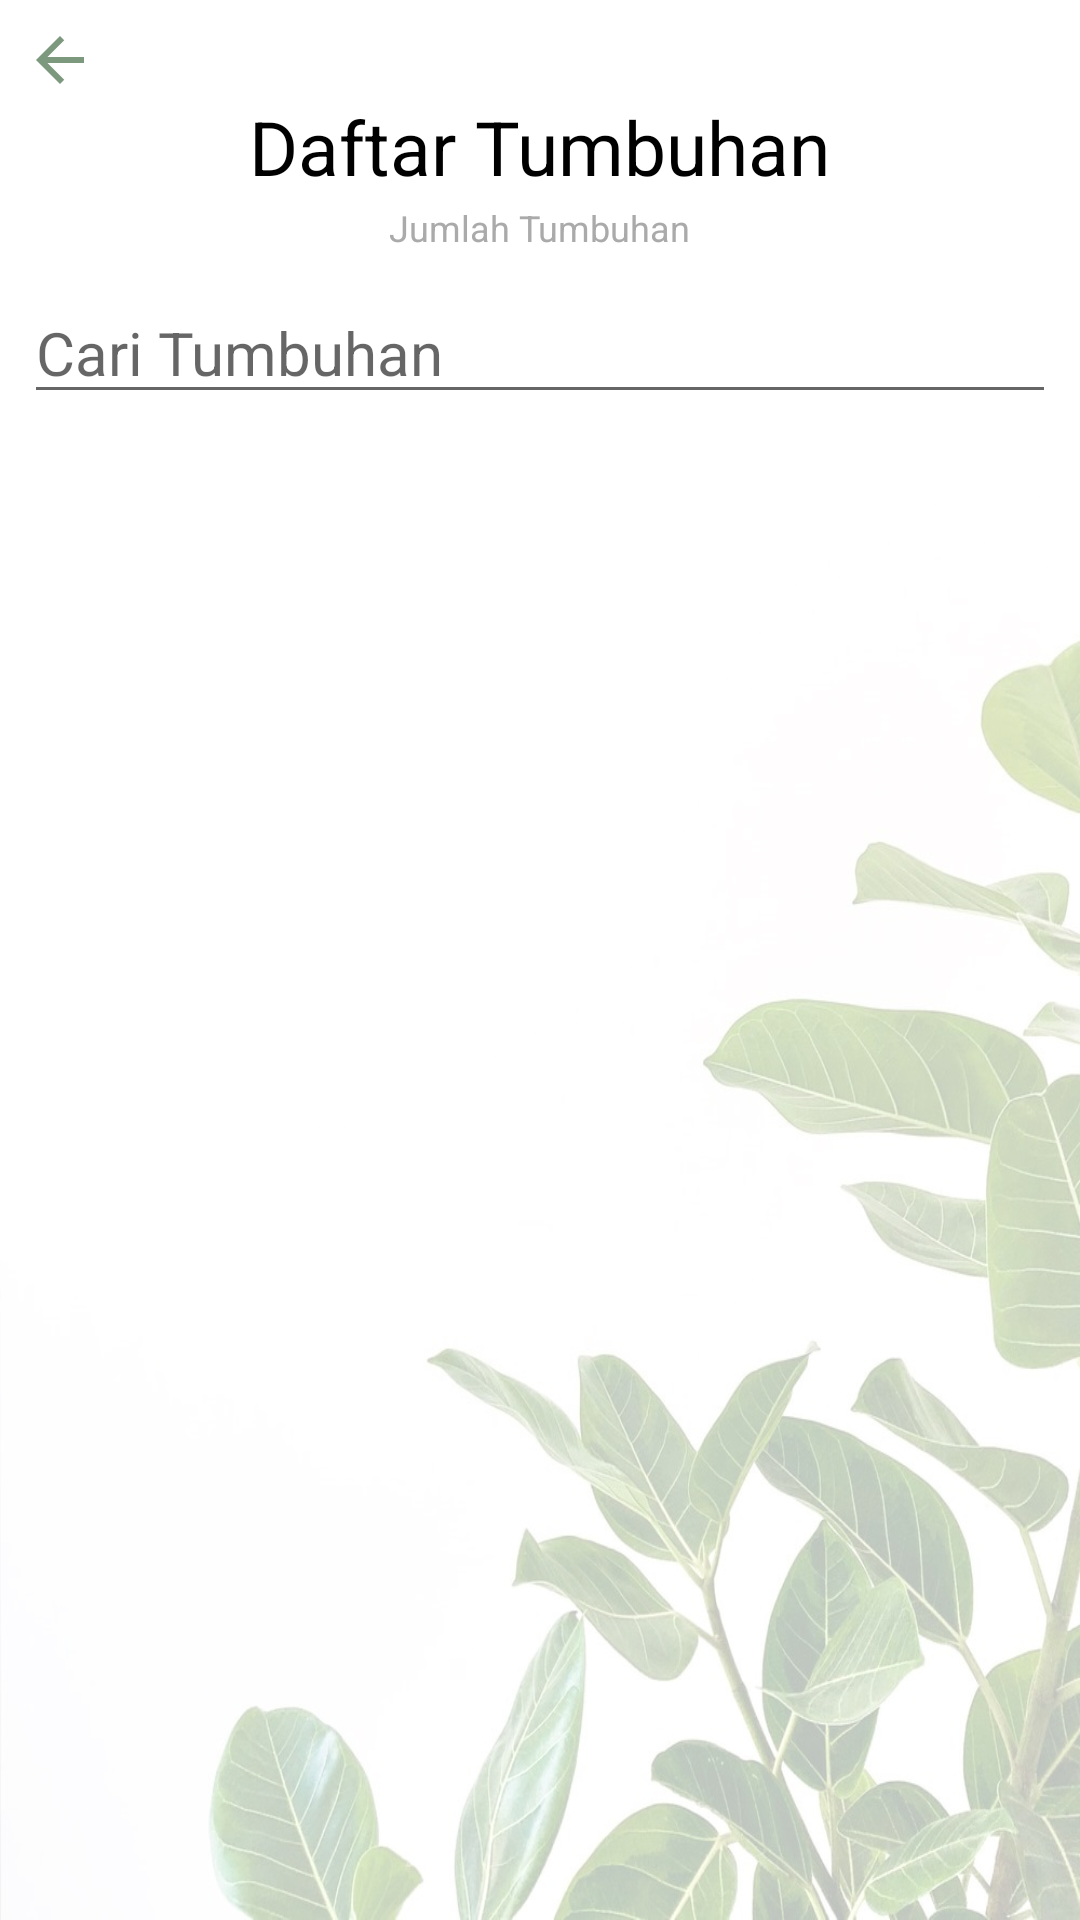

Where to tap for icons on this 1080 × 1920 app screen, as [x,y]:
back: [60,60]
